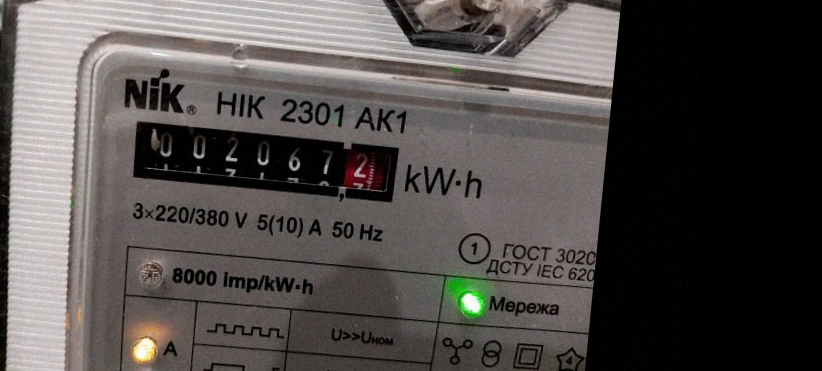0: (155, 128, 176, 159), (252, 136, 273, 165), (189, 130, 209, 160)
2: (350, 148, 371, 179), (222, 133, 242, 163)
6: (284, 142, 305, 173)
7: (317, 145, 336, 177)
screen: (116, 106, 415, 216)
